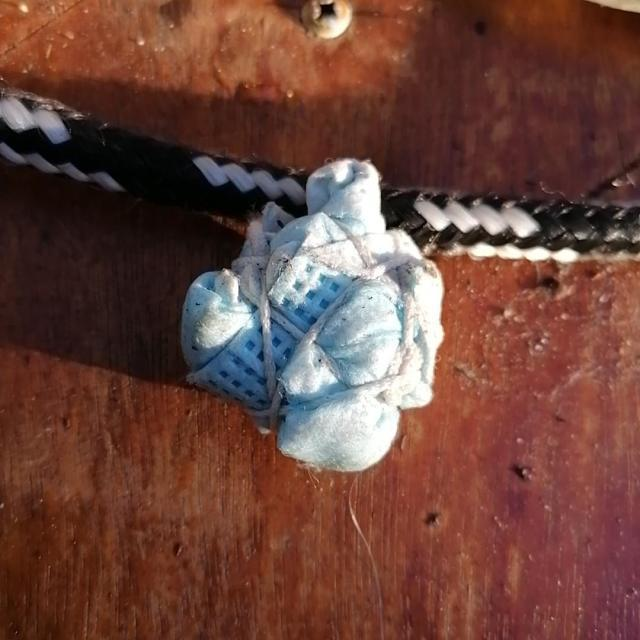Mask: (173, 153, 450, 478)
